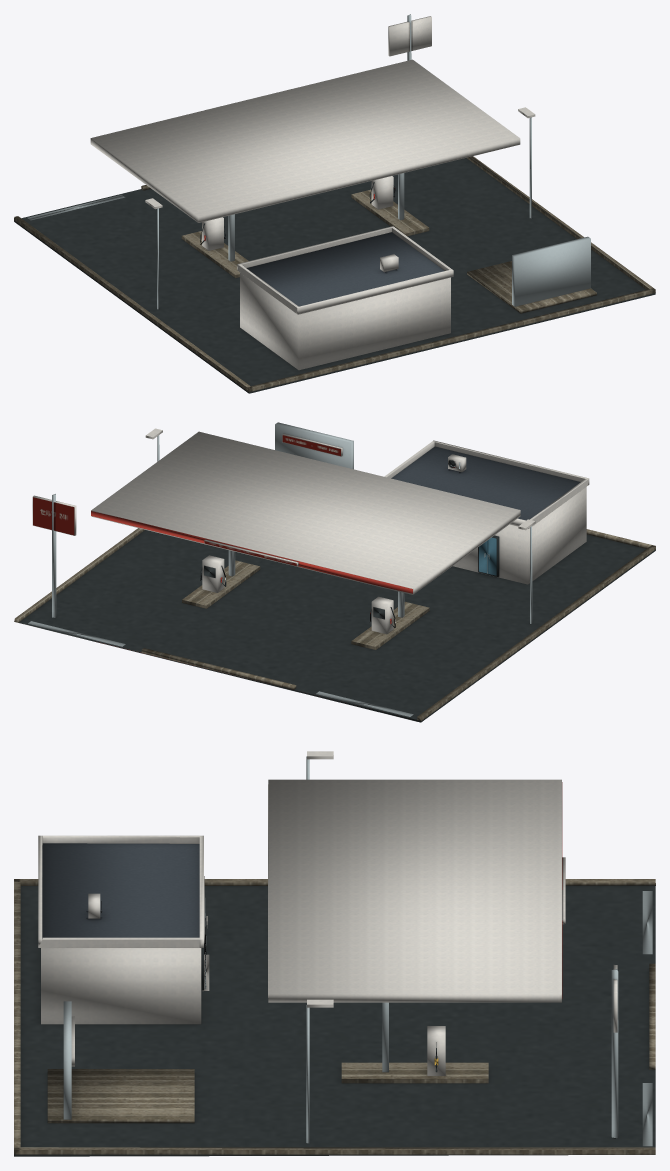
The model's file is fuel_urban_001.obj.
3 views of the same model, one above another, from view 1: azimuth 30°, elevation 25°; view 2: azimuth 150°, elevation 25°; view 3: azimuth 270°, elevation 25° (orthographic). The views are drawn at different scales.
Parts seen in each view (by area): view 1: fuel_urban_001; view 2: fuel_urban_001; view 3: fuel_urban_001.
Part boxes in pixels (x1,y1,x2,y2): fuel_urban_001: (14,14,655,393); fuel_urban_001: (14,422,655,722); fuel_urban_001: (14,751,655,1156).
Bounding box in the file's own units: 24.01 × 7 × 24.01.
1 material, 1 textured.
